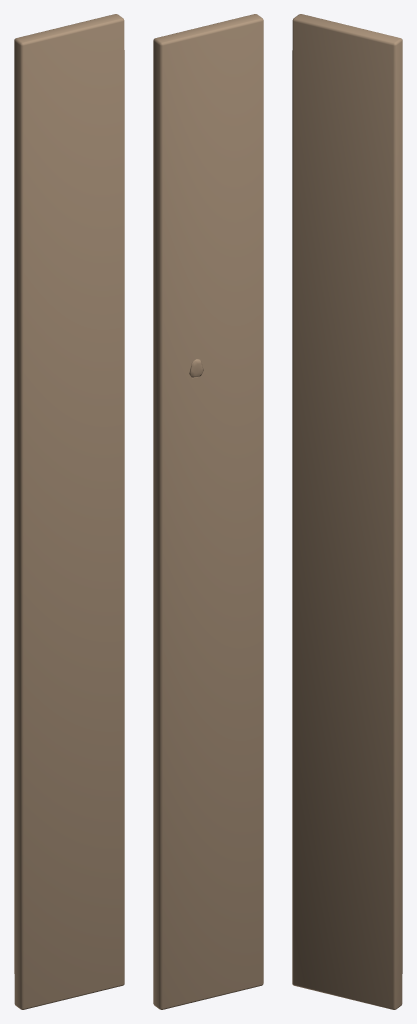
File: cl_board.glb
3 views of the same model, side by side, from view 1: azimuth 30°, elevation 25°; view 2: azimuth 210°, elevation 25°; view 3: azimuth 330°, elevation 25° (orthographic).
Visible parts, largest first — view 1: cl_board; view 2: cl_board; view 3: cl_board.
Part boxes in pixels (x1,y1,x2,y2): cl_board: [14, 14, 124, 1009]; cl_board: [153, 14, 263, 1009]; cl_board: [292, 14, 402, 1009].
Bounding box in the file's own units: 0.18 × 1.6 × 0.0307.
